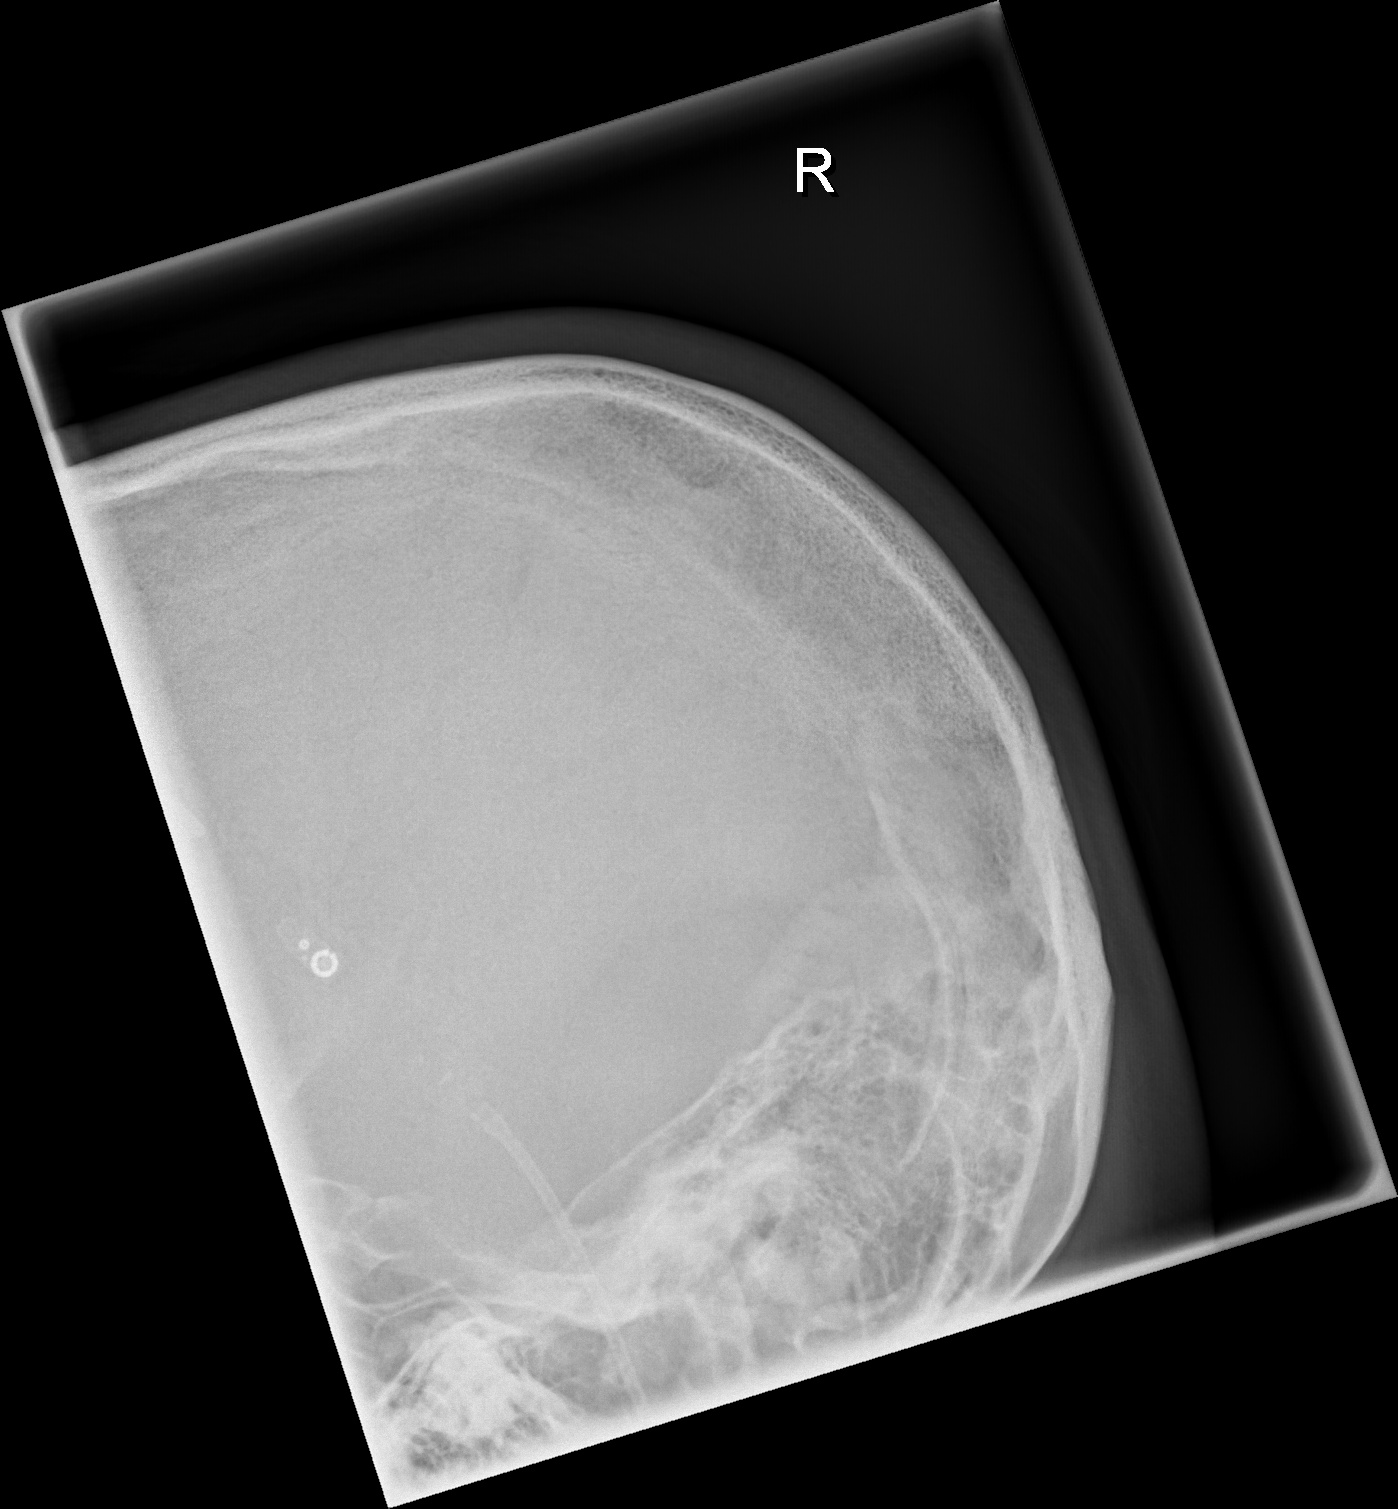Codman Hakim: (280, 925, 348, 985)
